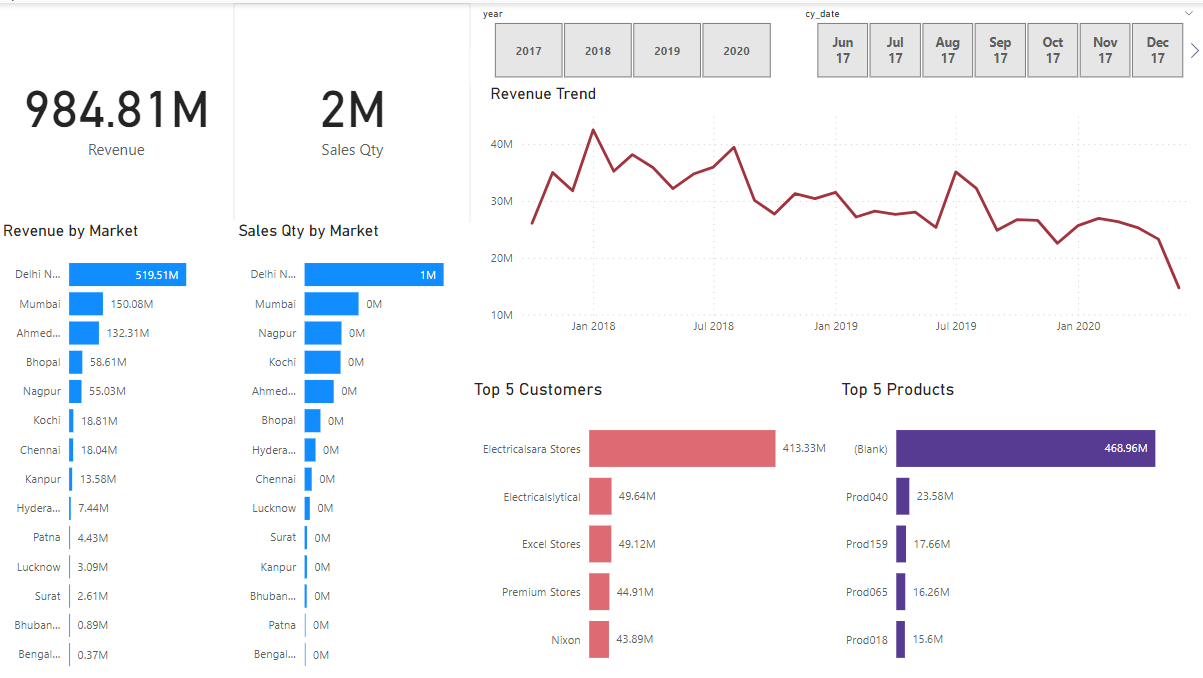

The dashboard page shown, as its layout file describes it:
{"tool":"powerbi","page":{"name":"Page 1","canvas":[1280,720],"ordinal":0},"visuals":[{"type":"card","fields":{"Values":["BaseMeasures (2).Revenue"]},"box":[0,0,250,231.5],"z":0},{"type":"card","fields":{"Values":["BaseMeasures (2).Sales Qty"]},"box":[249.5,0,251.3,232.4],"z":1000},{"type":"clusteredBarChart","title":"Revenue by Market","fields":{"Y":["BaseMeasures (2).Revenue"],"Category":["sales markets.markets_name"]},"box":[0,230.5,249.5,489.5],"z":2000},{"type":"clusteredBarChart","title":"Sales Qty by Market","fields":{"Y":["BaseMeasures (2).Sales Qty"],"Category":["sales markets.markets_name"]},"box":[249.5,230.5,249.5,489.5],"z":3000},{"type":"slicer","fields":{"Values":["sales date.year"]},"box":[500.7,0,341.7,85.8],"z":4000},{"type":"slicer","fields":{"Values":["sales date.cy_date"]},"box":[842.4,0,437.1,85.8],"z":5000},{"type":"clusteredBarChart","title":"Top 5 Customers","fields":{"Y":["BaseMeasures (2).Revenue"],"Category":["sales customers.custmer_name"]},"box":[498.9,398.7,389.3,321.3],"z":6000},{"type":"clusteredBarChart","title":"Top 5 Products","fields":{"Y":["BaseMeasures (2).Revenue"],"Category":["sales products.product_code"]},"box":[888.2,398.7,391.2,321.3],"z":7000},{"type":"lineChart","title":"Revenue Trend","fields":{"Y":["BaseMeasures (2).Revenue"],"Category":["sales date.cy_date.Variation.Date Hierarchy.Year","sales date.cy_date.Variation.Date Hierarchy.Quarter","sales date.cy_date.Variation.Date Hierarchy.Month","sales date.cy_date.Variation.Date Hierarchy.Day"]},"box":[515.9,85,763.5,274],"z":7001}]}

Visuals, with their boxes in screenshot pixels (x1, y1, x2, y2), scaled from the page's 1280x720 canvas onto the 1203x678 screenshot:
card - BaseMeasures (2).Revenue: x1=0, y1=0, x2=235, y2=218
card - BaseMeasures (2).Sales Qty: x1=234, y1=0, x2=471, y2=219
"Revenue by Market" clusteredBarChart: x1=0, y1=217, x2=234, y2=677
"Sales Qty by Market" clusteredBarChart: x1=234, y1=217, x2=469, y2=677
slicer - sales date.year: x1=471, y1=0, x2=792, y2=81
slicer - sales date.cy_date: x1=792, y1=0, x2=1202, y2=81
"Top 5 Customers" clusteredBarChart: x1=469, y1=375, x2=835, y2=677
"Top 5 Products" clusteredBarChart: x1=835, y1=375, x2=1202, y2=677
"Revenue Trend" lineChart: x1=485, y1=80, x2=1202, y2=338
